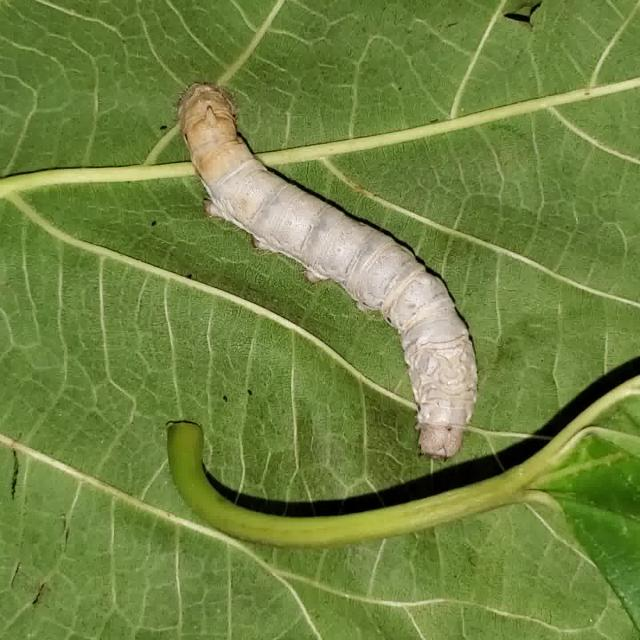Grasserie: (166, 75, 486, 461)
